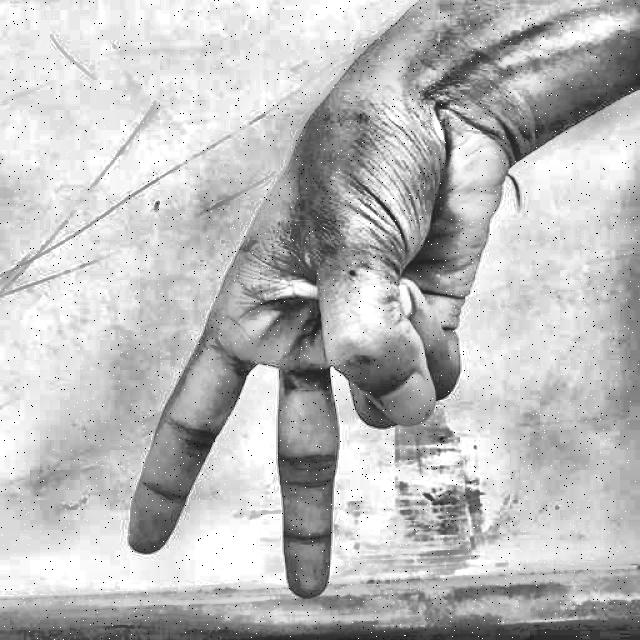Pa: (108, 62, 530, 612)
